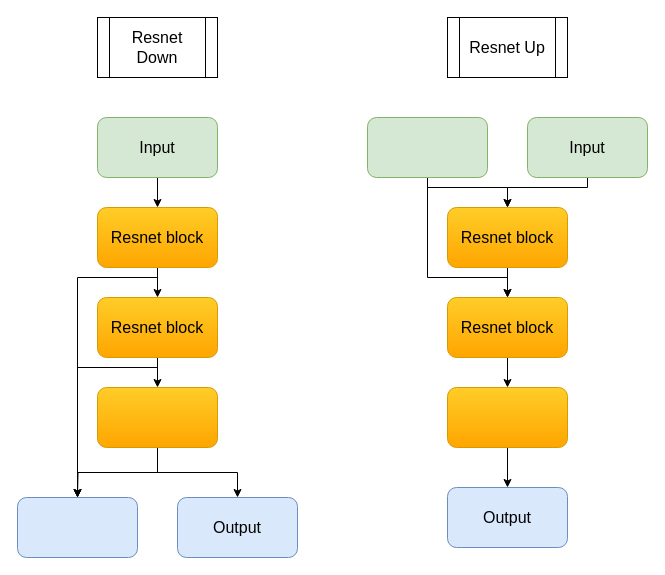
Image size: 665x575. Some labels were removed from this diagram. The centre of each missing label's shape, as x and y in pixels:
"Downsample" goes at (x=157, y=417).
"Input states" goes at (x=427, y=147).
"Output states" goes at (x=77, y=527).
"Upsample" goes at (x=507, y=417).
